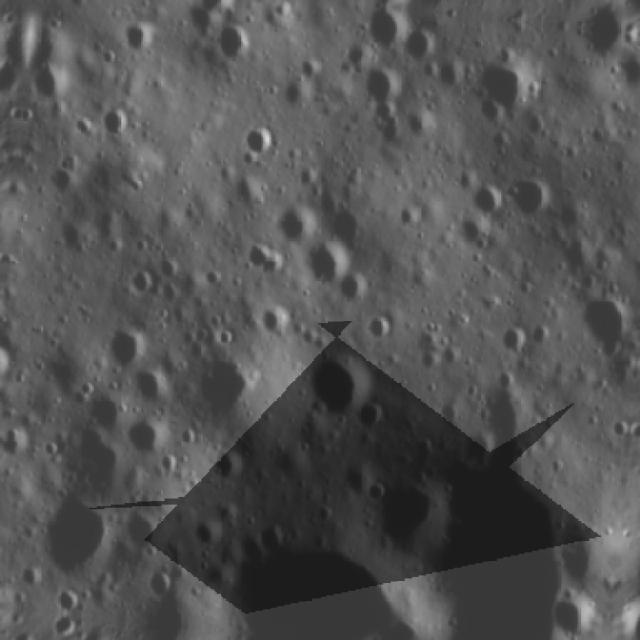crater: (35, 495, 123, 583), (302, 345, 384, 420), (196, 358, 273, 424), (573, 289, 639, 363), (472, 56, 534, 124), (546, 589, 602, 640), (301, 240, 357, 288), (270, 199, 322, 250), (505, 172, 557, 222), (210, 19, 259, 70), (360, 5, 408, 54), (360, 64, 406, 108), (129, 364, 176, 405), (106, 322, 146, 368), (123, 418, 168, 458), (121, 510, 162, 553), (240, 119, 280, 163), (402, 26, 446, 66), (468, 180, 506, 222), (352, 394, 390, 434), (334, 270, 372, 310), (120, 19, 157, 58), (98, 104, 133, 145), (190, 513, 228, 550), (122, 266, 160, 302), (208, 444, 244, 481), (497, 323, 532, 360), (364, 312, 398, 345), (46, 167, 80, 199), (148, 568, 175, 602), (364, 480, 393, 506), (312, 502, 338, 526), (202, 268, 226, 289)
